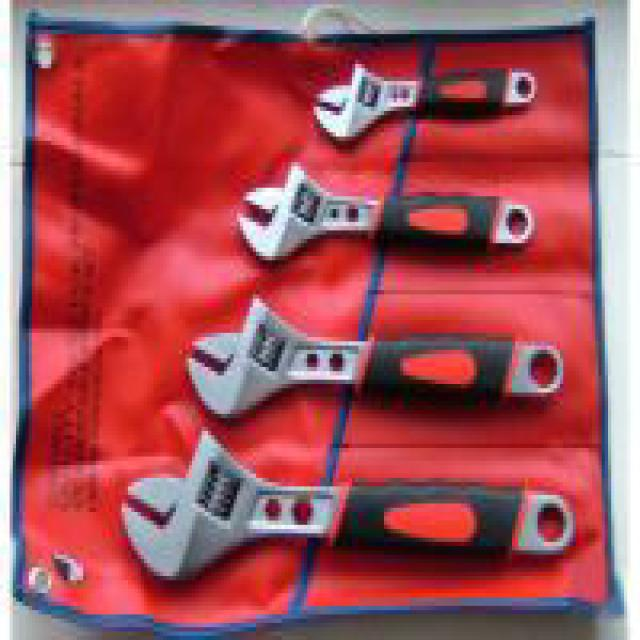wrench: (112, 420, 597, 588), (169, 289, 586, 408), (221, 153, 565, 288), (302, 52, 582, 162)
